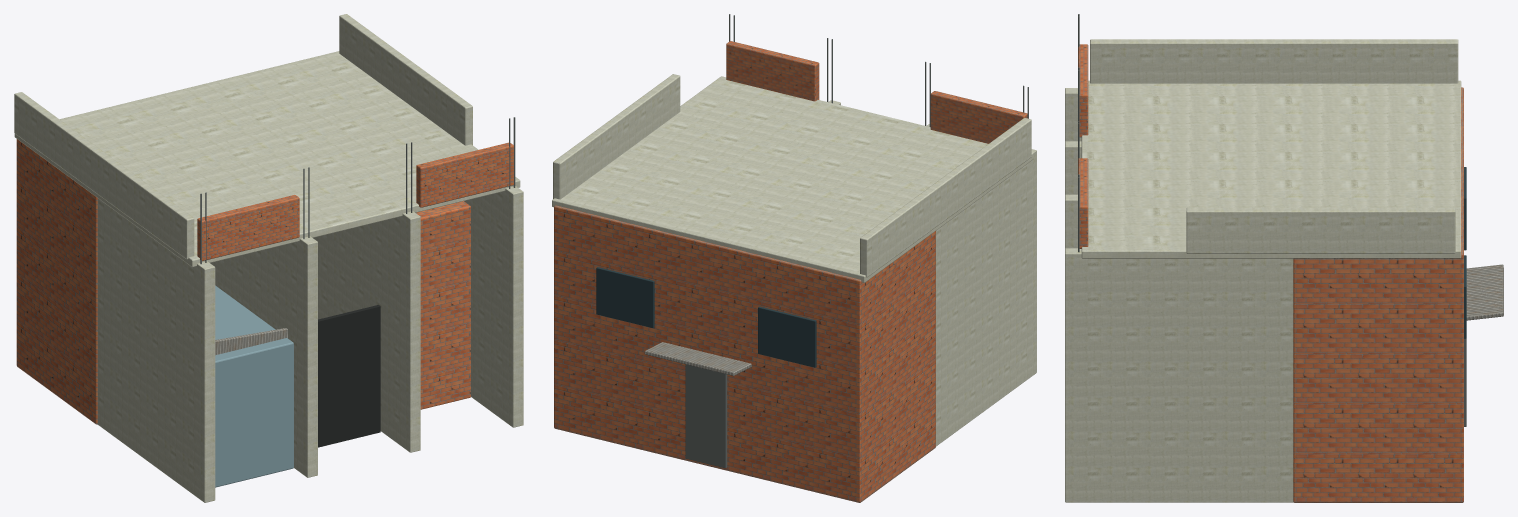
File: lajes_modulo_e.glb
3 views of the same model, side by side, from view 1: azimuth 30°, elevation 25°; view 2: azimuth 150°, elevation 25°; view 3: azimuth 270°, elevation 25° (orthographic). The views are drawn at different scales.
Visible parts, largest first — view 1: lajes_modulo_e; view 2: lajes_modulo_e; view 3: lajes_modulo_e.
Part boxes in pixels (x1=…): lajes_modulo_e: x1=14, y1=14, x2=523, y2=502; lajes_modulo_e: x1=552, y1=14, x2=1036, y2=502; lajes_modulo_e: x1=1065, y1=14, x2=1503, y2=502.
Size of the model in its own units: 7.42 by 6.5 by 7.98.
7 materials, 3 textured.
